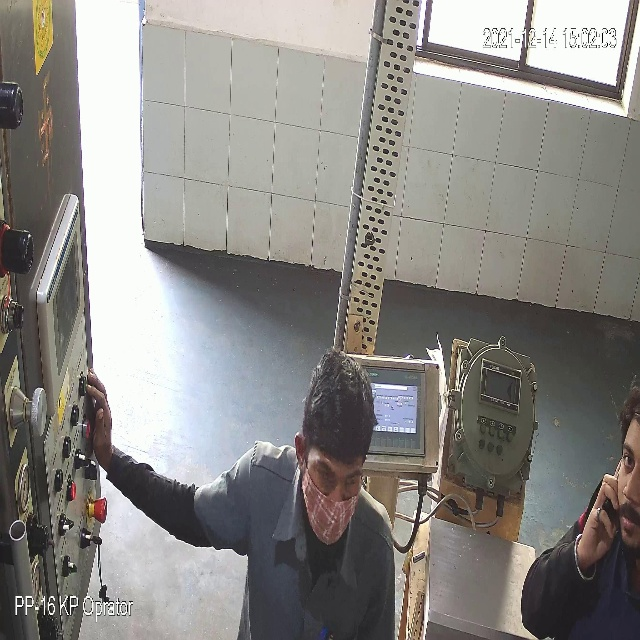Sin_gafas: (305, 452, 362, 501)
